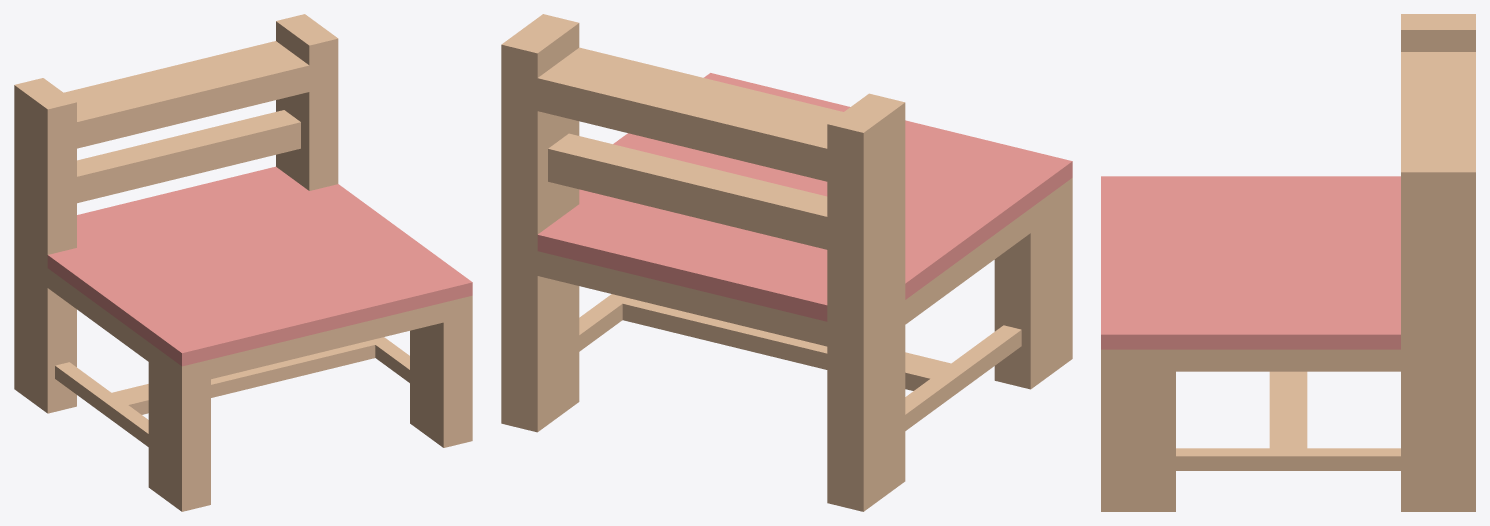
File: kn-bench-cushion.glb
3 renders of one model, left to right at view 1: azimuth 30°, elevation 25°; view 2: azimuth 150°, elevation 25°; view 3: azimuth 270°, elevation 25°, orthographic. The views are drawn at different scales.
Parts seen in each view (by area): view 1: benchCushion(Clone); view 2: benchCushion(Clone); view 3: benchCushion(Clone).
Boxes of the visible parts, x1,y1,x2,y2 form: benchCushion(Clone): (14,14,472,511); benchCushion(Clone): (501,14,1072,511); benchCushion(Clone): (1101,14,1475,511).
Size of the model in its own units: 1 by 1 by 1.
